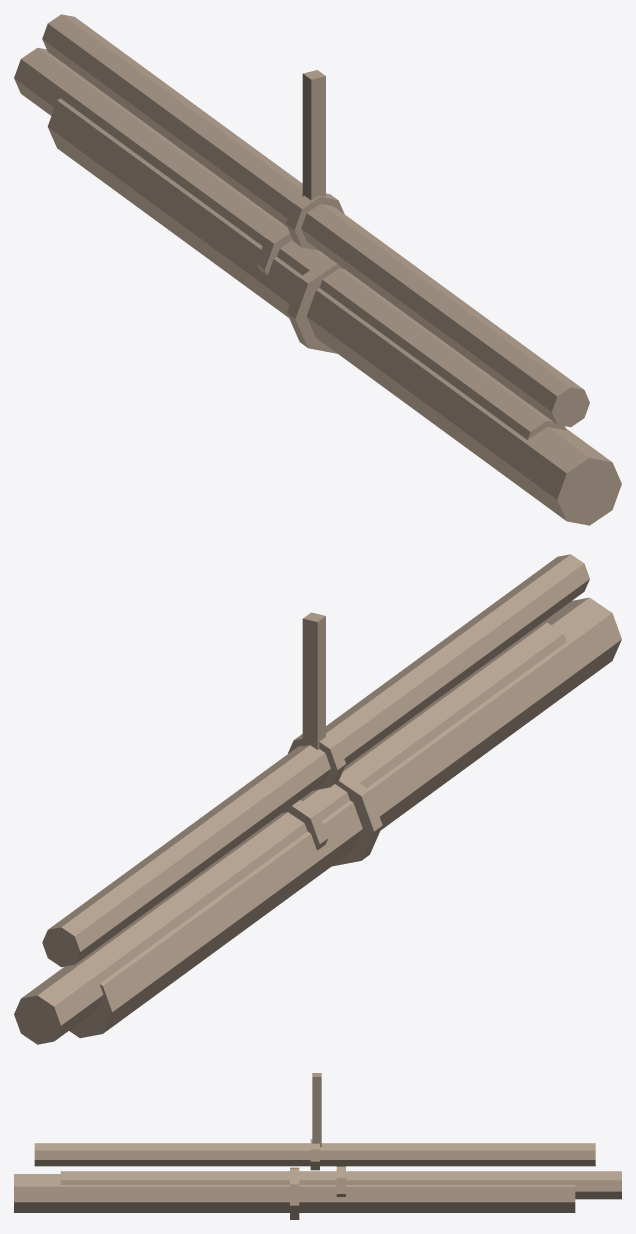
File: prop_pipes.glb
3 renders of one model, top to bottom at view 1: azimuth 30°, elevation 25°; view 2: azimuth 150°, elevation 25°; view 3: azimuth 270°, elevation 25°, orthographic. The views are drawn at different scales.
Visible parts, largest first — view 1: PropPipes; view 2: PropPipes; view 3: PropPipes.
Part boxes in pixels (bbox=[...]): PropPipes: bbox=[14, 14, 621, 525]; PropPipes: bbox=[14, 554, 621, 1044]; PropPipes: bbox=[14, 1073, 621, 1219].
Bounding box in the file's own units: 0.594 × 1.7 × 6.5.
